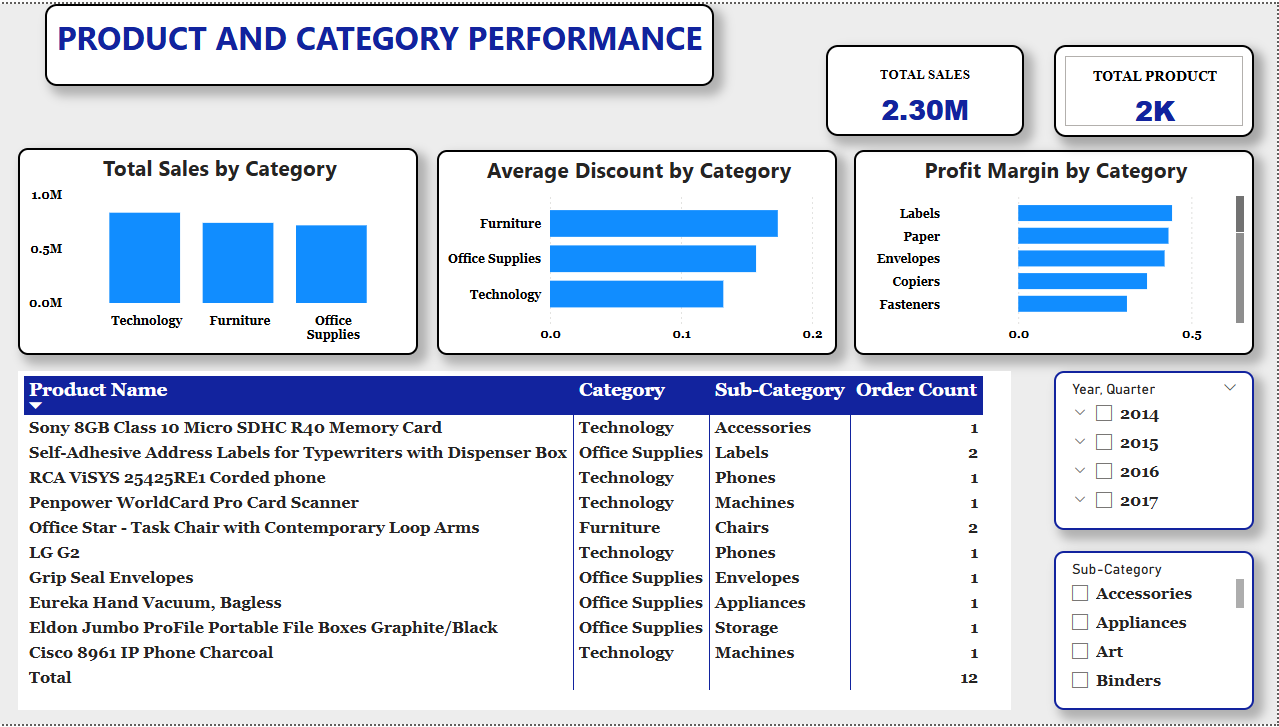

What the dashboard file says about the page in this screenshot:
{"tool":"powerbi","page":{"name":"Product & Category Performance","canvas":[1280,720],"ordinal":3},"visuals":[{"type":"clusteredBarChart","title":"Profit Margin by Category","fields":{"Category":["Products.Sub-Category"],"Y":["Orders.PROFIT MARGIN"]},"box":[856.7,145.6,400,205.6],"z":0},{"type":"columnChart","title":"Total Sales by Category","fields":{"Category":["Products.Category"],"Y":["Orders.TOTAL SALES"]},"box":[21.1,144.4,400,206.7],"z":1000},{"type":"tableEx","fields":{"Values":["Products.Product Name","Products.Category","Products.Sub-Category","Orders.Order Count"]},"box":[21.1,366.7,993.3,338.9],"z":2000},{"type":"clusteredBarChart","title":"Average Discount by  Category","fields":{"Category":["Products.Category"],"Y":["Orders.AVERAGE DISCOUNT"]},"box":[440,145.6,400,205.6],"z":3000},{"type":"textbox","box":[48,0,669,82],"z":4000},{"type":"slicer","fields":{"Values":["Orders.Order Date.Variation.Date Hierarchy.Year","Orders.Order Date.Variation.Date Hierarchy.Quarter"]},"box":[1056.7,366.7,200,158.9],"z":5000},{"type":"slicer","fields":{"Values":["Products.Sub-Category"]},"box":[1056.7,546.7,200,158.9],"z":6000},{"type":"cardVisual","fields":{"Data":["Products.TOTAL PRODUCT"]},"box":[1057,41,200,92],"z":7000},{"type":"cardVisual","fields":{"Data":["Orders.TOTAL SALES"]},"box":[829,41,198,91],"z":8000}]}

Visuals, with their boxes in screenshot pixels (x1, y1, x2, y2), scaled from the page's 1280x720 canvas onto the 1279x727 screenshot:
"Profit Margin by Category" clusteredBarChart: pyautogui.locateOnScreen(856, 147, 1256, 355)
"Total Sales by Category" columnChart: pyautogui.locateOnScreen(21, 146, 421, 355)
tableEx - Products.Product Name x Products.Category: pyautogui.locateOnScreen(21, 370, 1014, 712)
"Average Discount by  Category" clusteredBarChart: pyautogui.locateOnScreen(440, 147, 839, 355)
textbox: pyautogui.locateOnScreen(48, 0, 716, 83)
slicer - Orders.Order Date.Variation.Date Hierarchy.Year x Orders.Order Date.Variation.Date Hierarchy.Quarter: pyautogui.locateOnScreen(1056, 370, 1256, 531)
slicer - Products.Sub-Category: pyautogui.locateOnScreen(1056, 552, 1256, 712)
cardVisual - Products.TOTAL PRODUCT: pyautogui.locateOnScreen(1056, 41, 1256, 134)
cardVisual - Orders.TOTAL SALES: pyautogui.locateOnScreen(828, 41, 1026, 133)
